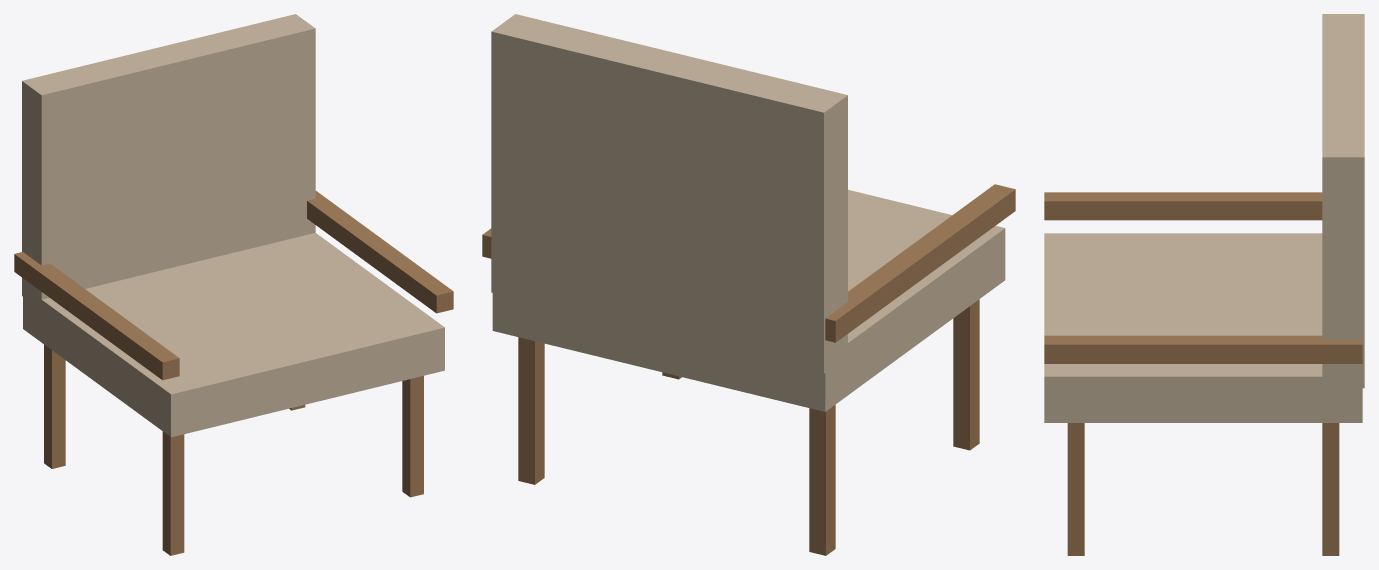
The model's file is armchair_nordic.glb.
3 views of the same model, side by side, from view 1: azimuth 30°, elevation 25°; view 2: azimuth 150°, elevation 25°; view 3: azimuth 270°, elevation 25° (orthographic). The views are drawn at different scales.
Parts seen in each view (by area): view 1: armchair_nordic; view 2: armchair_nordic; view 3: armchair_nordic.
Boxes of the visible parts, x1,y1,x2,y2 form: armchair_nordic: (14,14,453,555); armchair_nordic: (482,14,1015,555); armchair_nordic: (1044,14,1364,555).
Size of the model in its own units: 0.85 by 1.05 by 0.755.
